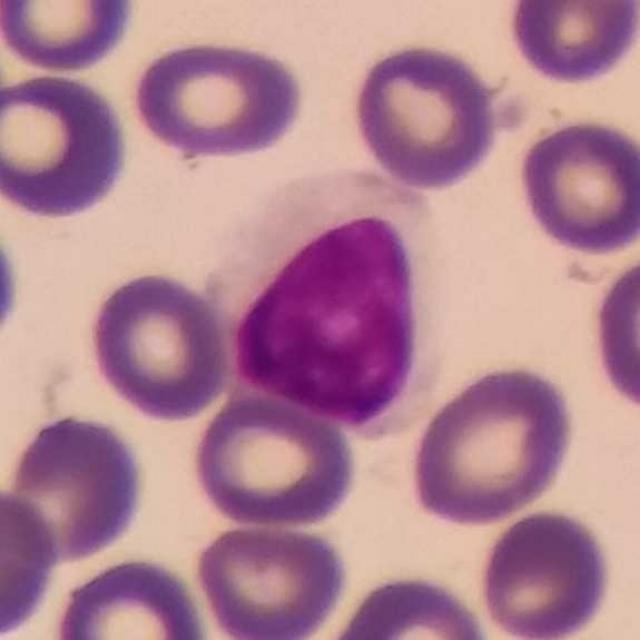Lymphocyte: (201, 149, 454, 431)
RBC: (405, 360, 579, 528), (186, 390, 362, 532), (346, 39, 507, 193), (81, 266, 236, 424), (128, 34, 309, 164), (2, 410, 150, 566), (0, 67, 135, 224), (190, 518, 350, 640), (475, 505, 617, 640), (513, 114, 640, 258), (48, 552, 212, 640), (320, 567, 495, 640), (502, 0, 640, 88), (0, 0, 141, 75), (585, 242, 640, 420), (0, 485, 62, 639), (0, 230, 28, 335)
